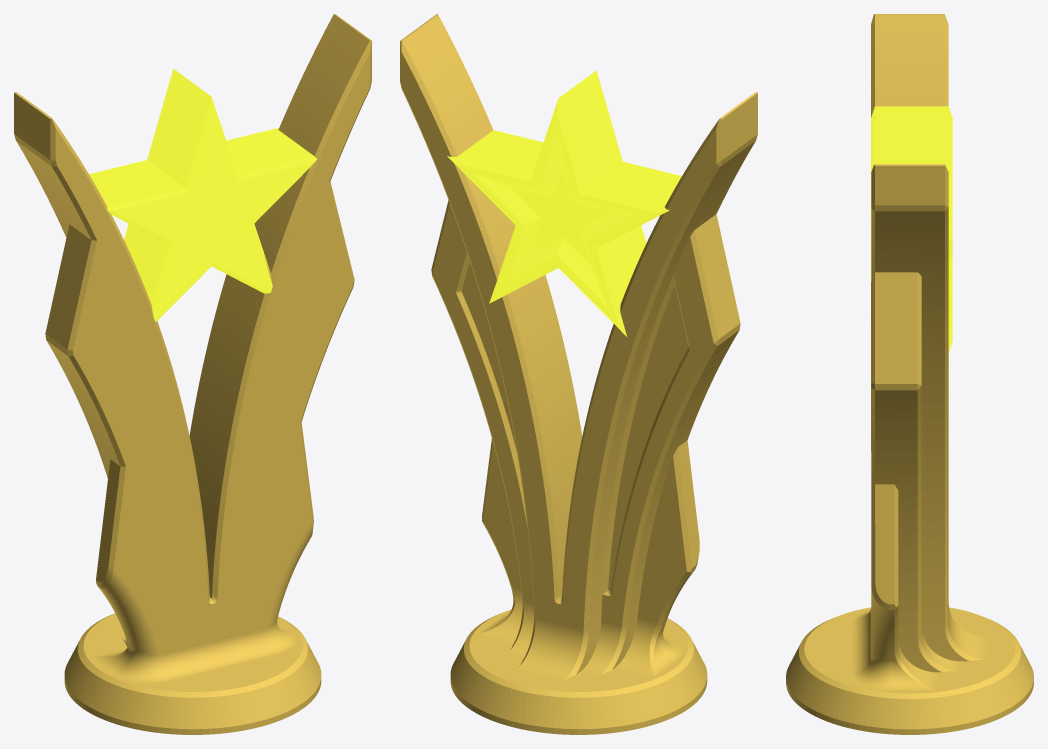
File: myThropy.gltf
The picture shows the model from 3 angles, left to right: view 1: azimuth 30°, elevation 25°; view 2: azimuth 150°, elevation 25°; view 3: azimuth 270°, elevation 25°; orthographic projection. The views are drawn at different scales.
Parts seen in each view (by area): view 1: Mesh_0; view 2: Mesh_0; view 3: Mesh_0.
Part boxes in pixels (bbox=[...]): Mesh_0: bbox=[14, 14, 371, 734]; Mesh_0: bbox=[400, 14, 757, 734]; Mesh_0: bbox=[786, 14, 1033, 734].
Bounding box in the file's own units: 1.82 × 3.32 × 1.26.
